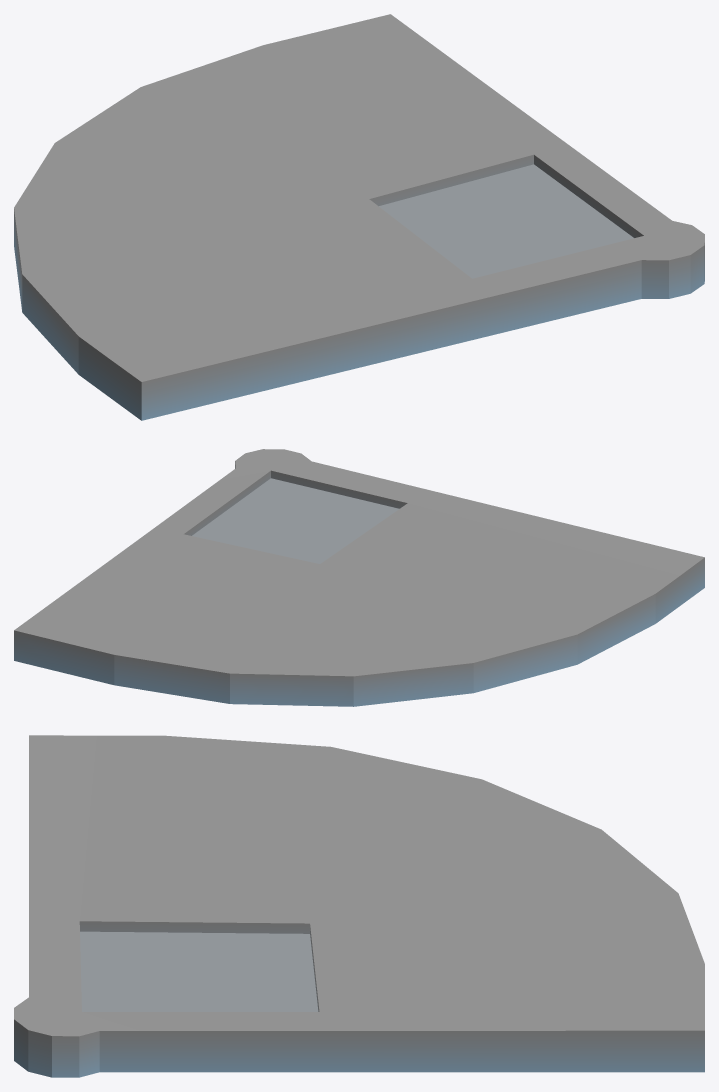
The picture shows the model from 3 angles, top to bottom: view 1: azimuth 30°, elevation 25°; view 2: azimuth 150°, elevation 25°; view 3: azimuth 270°, elevation 25°; orthographic projection. The views are drawn at different scales.
Parts seen in each view (by area): view 1: Cube; view 2: Cube; view 3: Cube.
Part boxes in pixels (x1=…): Cube: x1=14, y1=14, x2=704, y2=420; Cube: x1=14, y1=449, x2=704, y2=706; Cube: x1=14, y1=735, x2=704, y2=1077.
Bounding box in the file's own units: 2154 × 139 × 2091.
